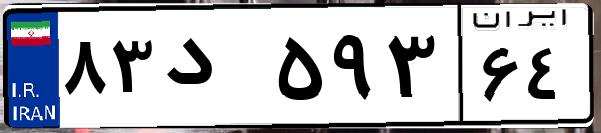3: (385, 28, 445, 110), (110, 28, 158, 98)
4: (525, 38, 570, 115)
5: (270, 28, 330, 110)
6: (475, 38, 525, 113)
8: (57, 26, 110, 100)
9: (330, 28, 385, 110)
د: (158, 20, 270, 120)
